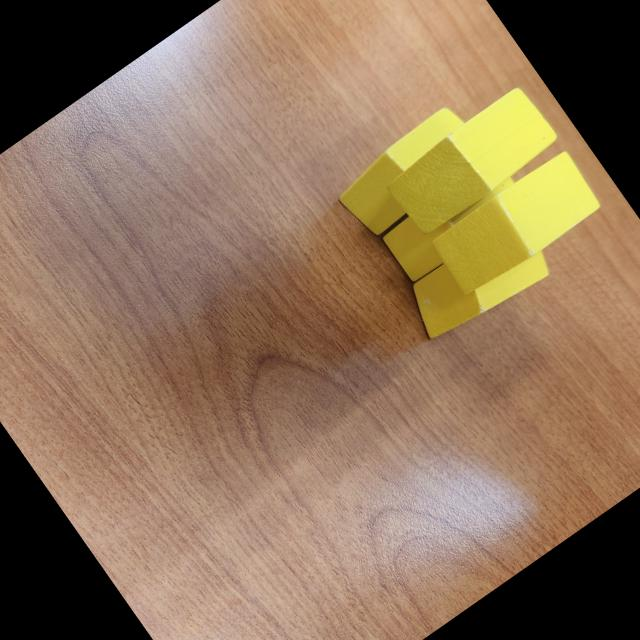yellow: (382, 81, 564, 239), (425, 145, 606, 303), (327, 100, 490, 244), (398, 210, 556, 352), (377, 154, 531, 286)
